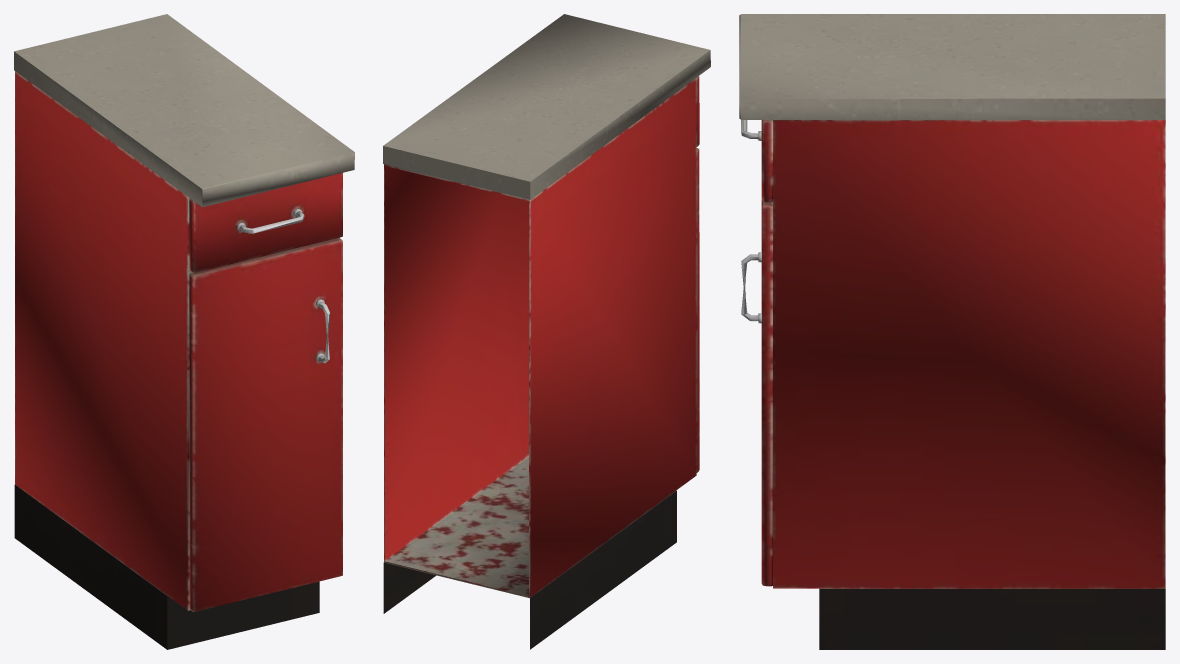
File: kit_base_30_red-low.glb
The picture shows the model from 3 angles, left to right: view 1: azimuth 30°, elevation 25°; view 2: azimuth 150°, elevation 25°; view 3: azimuth 270°, elevation 25°; orthographic projection. The views are drawn at different scales.
Parts seen in each view (by area): view 1: kit_base_30_red-low; view 2: kit_base_30_red-low; view 3: kit_base_30_red-low.
Boxes of the visible parts, x1,y1,x2,y2 form: kit_base_30_red-low: (14, 14, 354, 649); kit_base_30_red-low: (383, 14, 710, 649); kit_base_30_red-low: (739, 14, 1165, 649).
Bounding box in the file's own units: 0.298 × 0.905 × 0.6343.
1 material, 1 textured.
